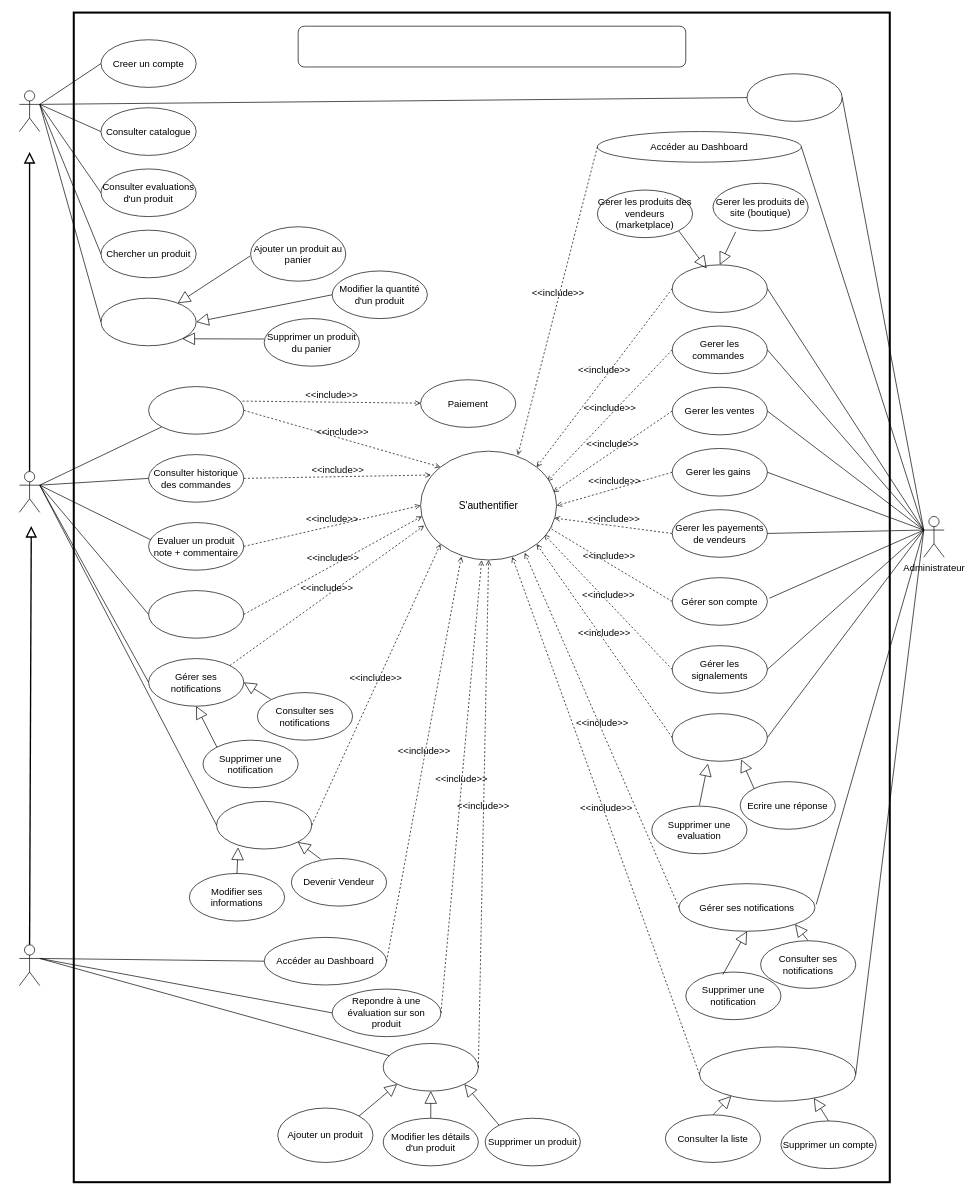
Some shapes in this 976 by 1195 pixel diagram are drawn without their labels. Here are the shapes that lost their labels. From the top down, the centre of each, then its label:
the point at 492,46: Application de Vente en Ligne (Boutique + Marketplace)
the point at 29,111: Visiteur
the point at 794,97: Intéragir avec un ChatBot
the point at 719,288: Gerer les produits
the point at 148,322: Gérer panier
the point at 196,410: Passer une commande
the point at 29,491: Client
the point at 196,614: Signaler un produit
the point at 719,737: Gérer les evalutions
the point at 264,825: Gerer son compte
the point at 29,965: Vendeur
the point at 430,1067: Gérer ses produits
the point at 777,1073: Gerer les comptes clients/vendeurs
